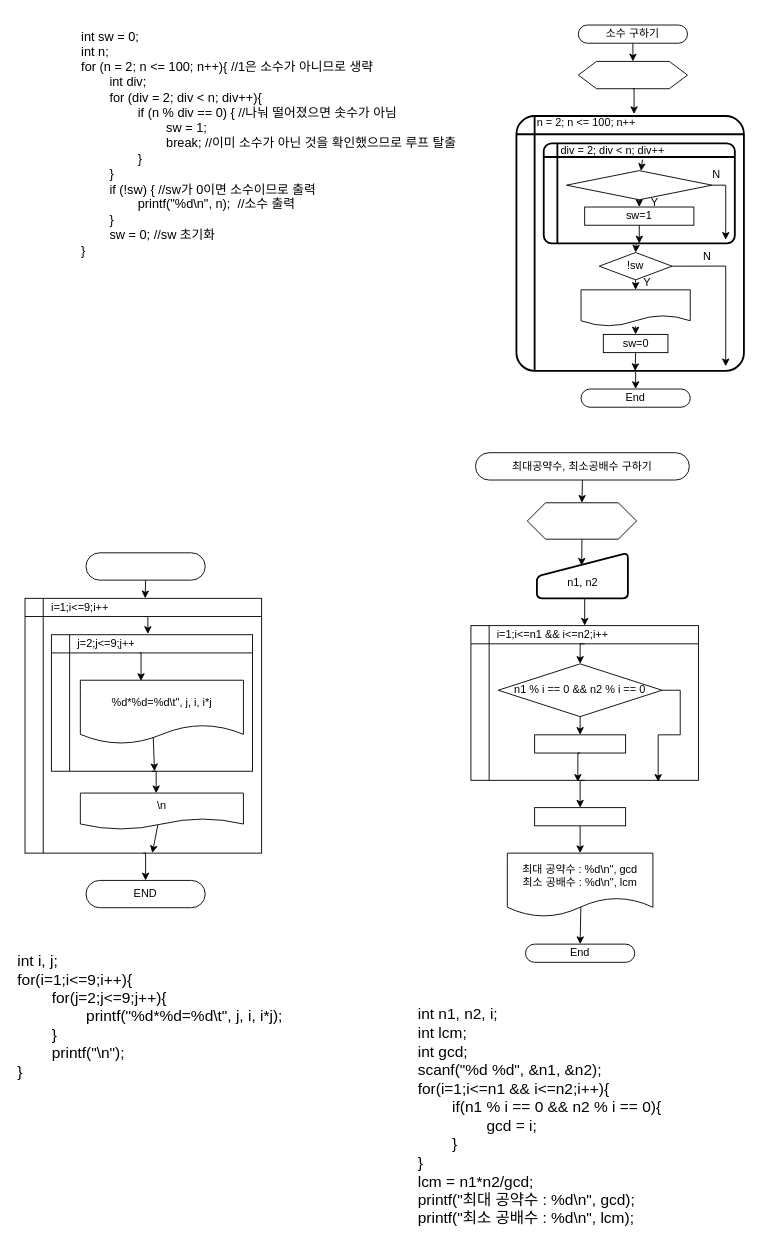
Some shapes in this 760 by 1250 pixel diagram are drawn without their labels. Here are the shapes that lost their labels. From the top down, the box of each, then its label:
(577, 61, 688, 89): sw=0, n, div
(566, 170, 712, 200): n%div==0
(580, 289, 690, 326): %d\n, n
(526, 502, 637, 539): lcm, gcd
(85, 552, 205, 580): 구구단
(534, 734, 626, 753): gcd=i
(534, 807, 626, 826): lcm=n1*n2/gcd
